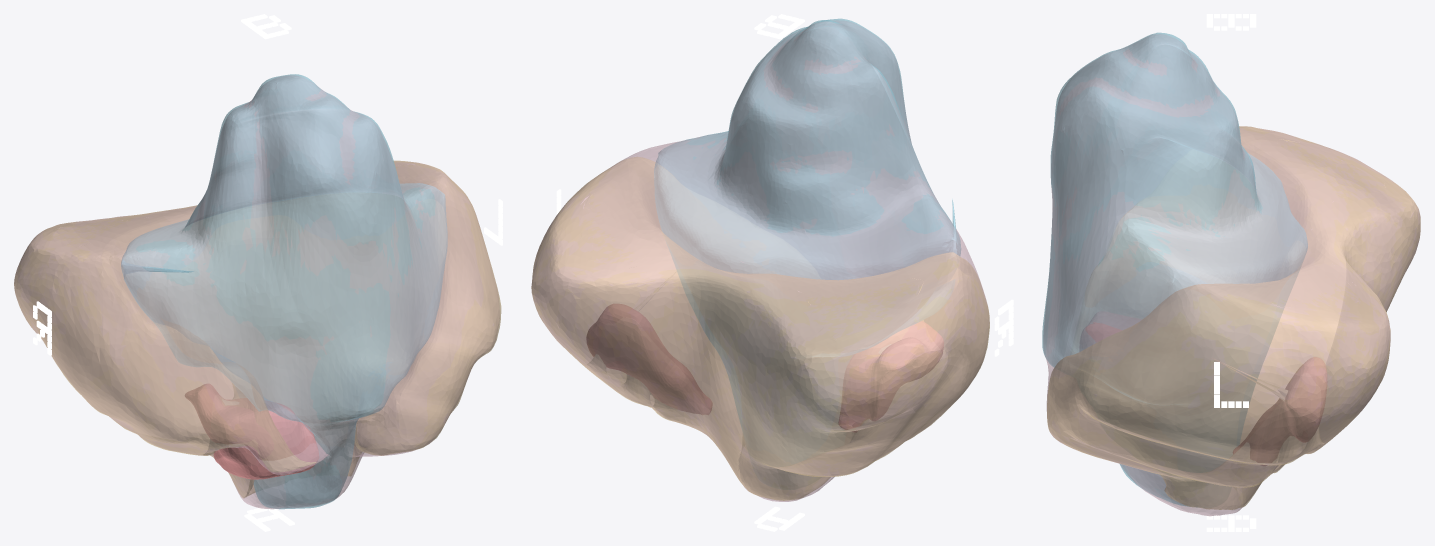
The picture shows the model from 3 angles, left to right: view 1: azimuth 30°, elevation 25°; view 2: azimuth 150°, elevation 25°; view 3: azimuth 270°, elevation 25°; orthographic projection.
Parts seen in each view (by area): view 1: prostate_gland, transition_zone, peripheral_zone, lesion_01, pv_ar_marker_B, pv_ar_marker_R; view 2: prostate_gland, peripheral_zone, transition_zone, lesion_01, pv_ar_marker_B, pv_ar_marker_R; view 3: prostate_gland, peripheral_zone, transition_zone, lesion_01, pv_ar_marker_B, pv_ar_marker_A, pv_ar_marker_L.
Boxes of the visible parts, x1,y1,x2,y2 form: prostate_gland: (14, 75, 499, 509); transition_zone: (121, 74, 447, 509); peripheral_zone: (14, 160, 501, 498); lesion_01: (185, 384, 318, 479); pv_ar_marker_B: (241, 14, 291, 39); pv_ar_marker_R: (33, 301, 51, 355); prostate_gland: (531, 20, 989, 501); peripheral_zone: (531, 157, 989, 500); transition_zone: (654, 18, 960, 430); lesion_01: (586, 304, 943, 432); pv_ar_marker_B: (754, 14, 804, 39); pv_ar_marker_R: (994, 299, 1013, 356); prostate_gland: (1043, 34, 1420, 516); peripheral_zone: (1047, 126, 1420, 509); transition_zone: (1042, 32, 1307, 507); lesion_01: (1080, 312, 1327, 465); pv_ar_marker_B: (1206, 14, 1256, 30); pv_ar_marker_A: (1206, 515, 1256, 531); pv_ar_marker_L: (1214, 362, 1248, 407).
Bounding box in the file's own units: 0.0615 × 0.0642 × 0.0438.
